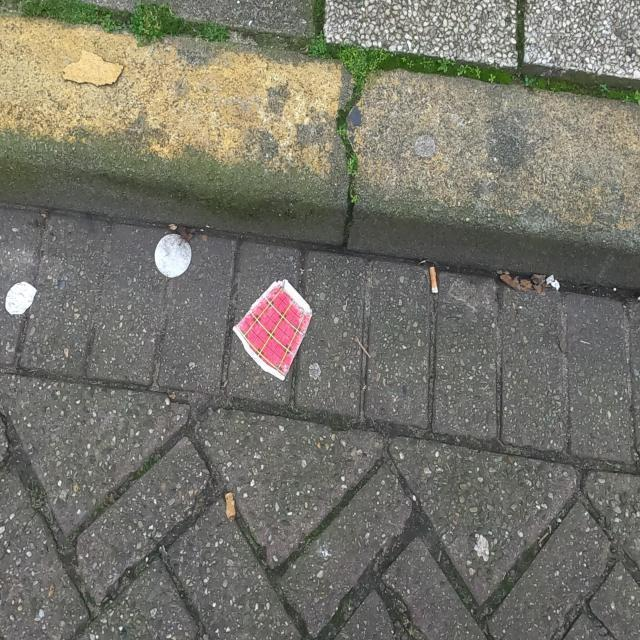Cup: (228, 276, 316, 385)
